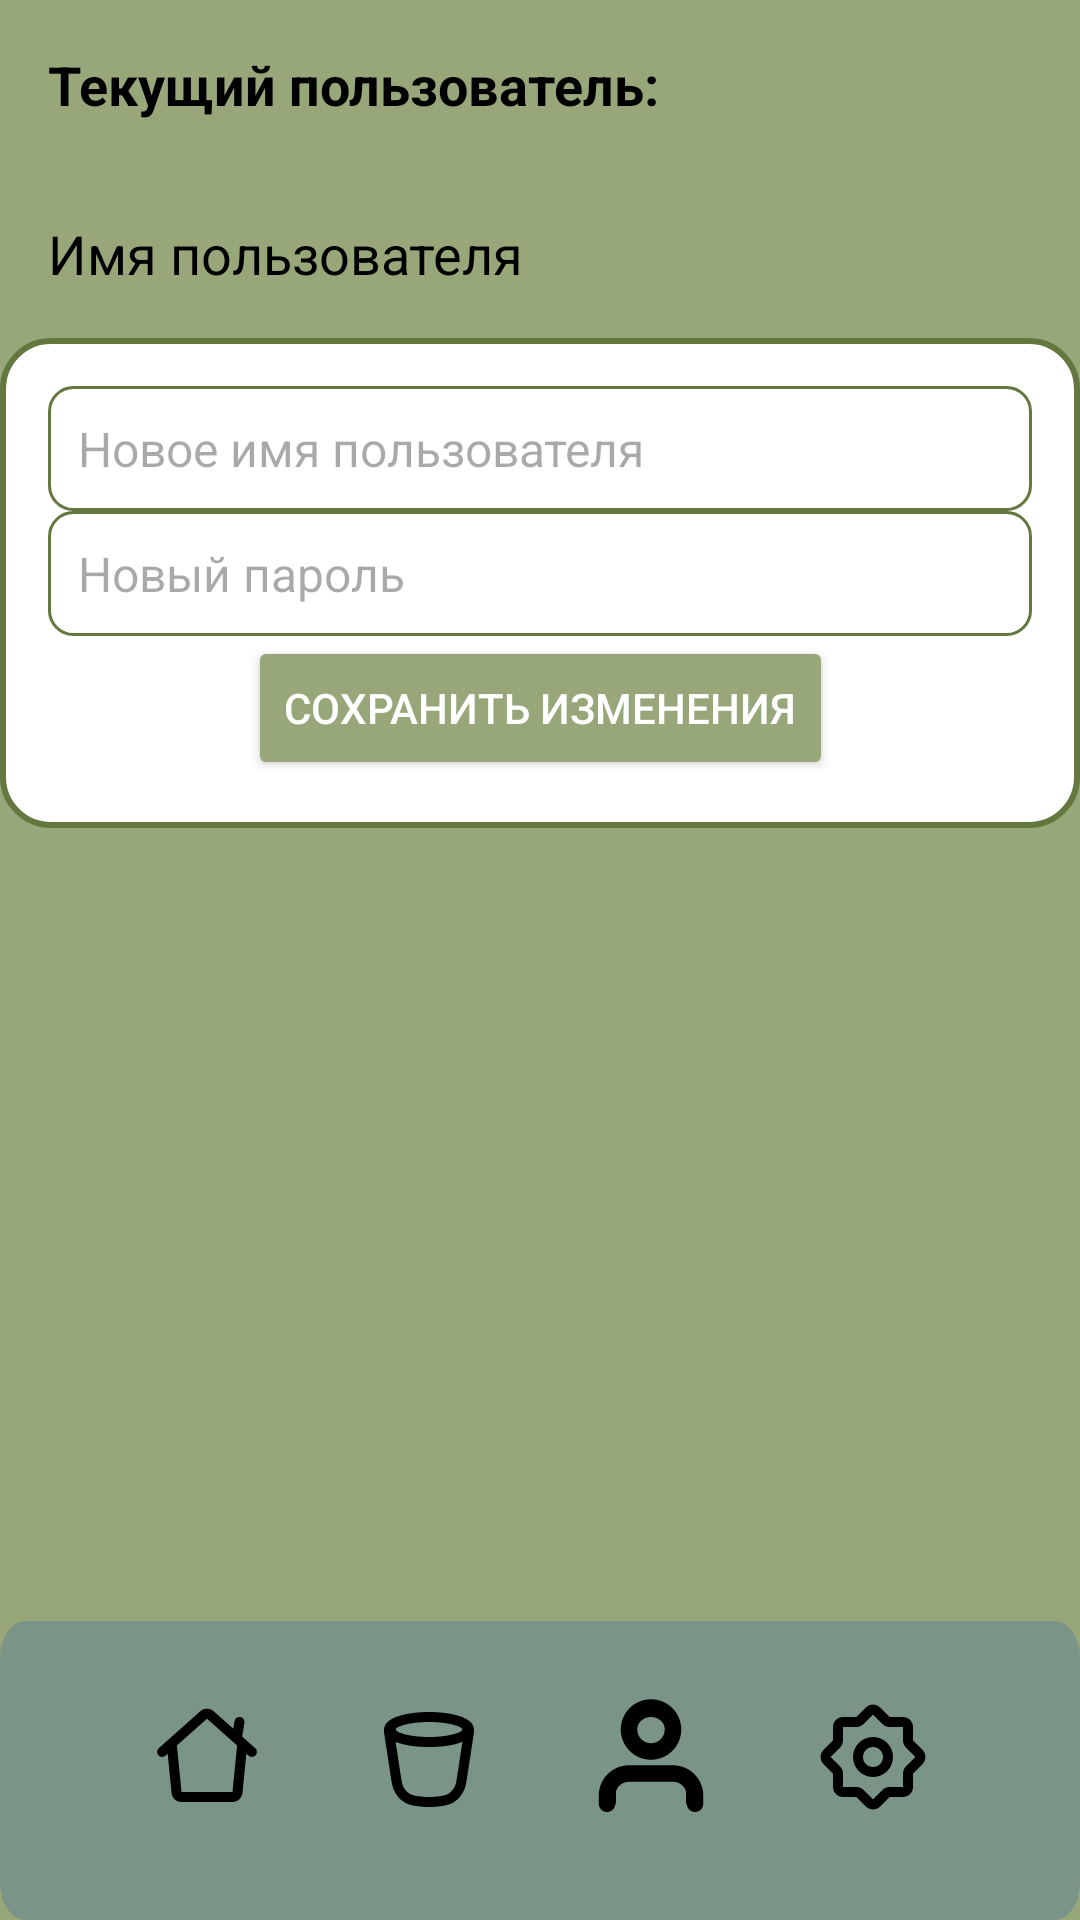

Point at icon controls on the screen. Image size 1080*1920, points as [x,y].
atprofile: [651,1755]
home: [207,1755]
settings: [873,1757]
